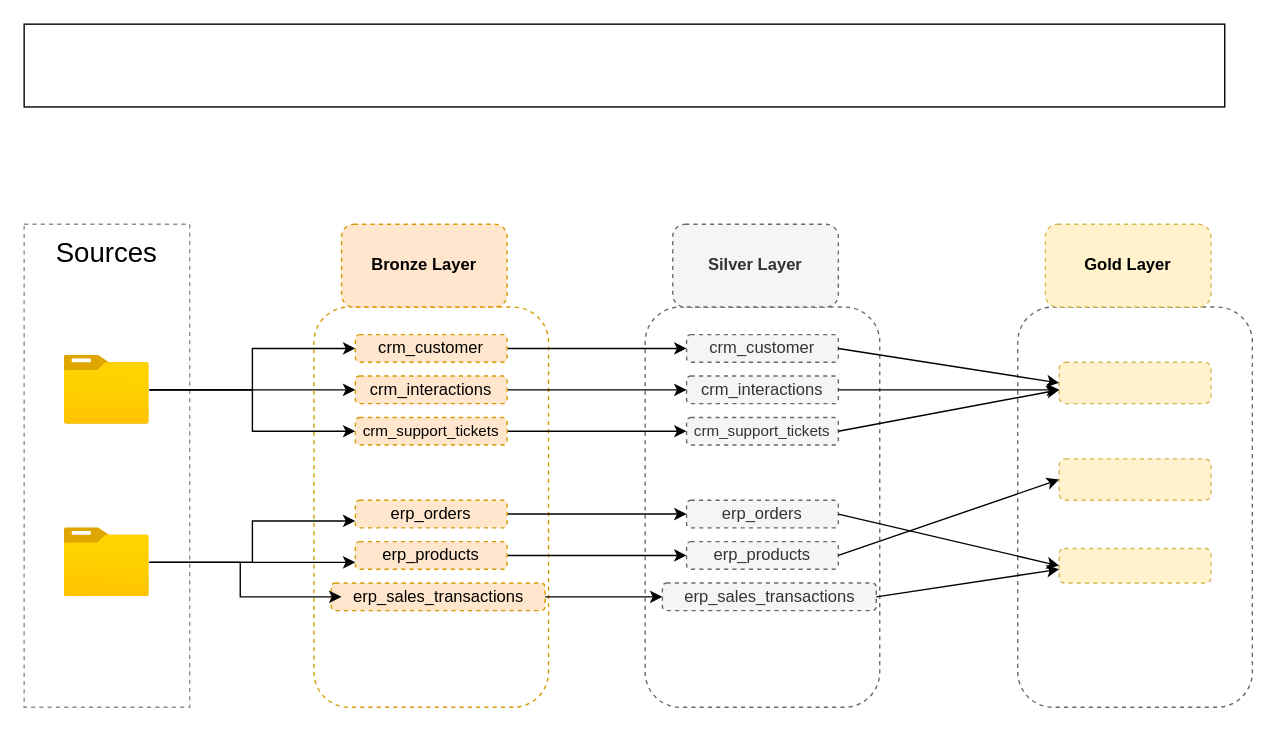
Some shapes in this 1277 by 731 pixel diagram are drawn without their labels. Each missing label, with the centre of its shape:
CRM: point 106,389
Data Flow Diagram: point 624,65
dim_customers: point 1134,382
dim_products: point 1134,478
ERP: point 106,561
fact_sales: point 1134,565
